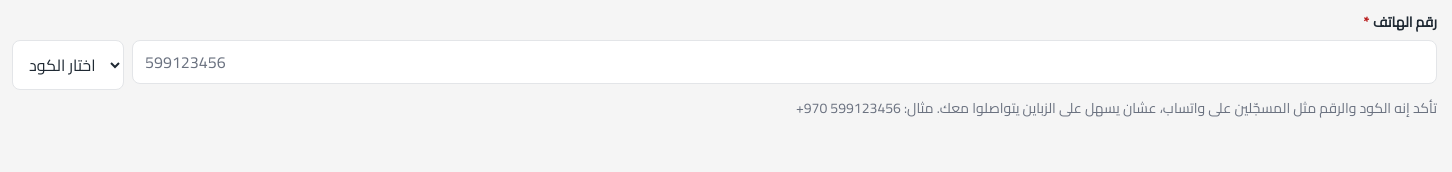
Test: PhoneField › moves a pasted country code into the select
Click the field labelled "رقم الهاتف*": [784, 62] box [132,40,1437,84]
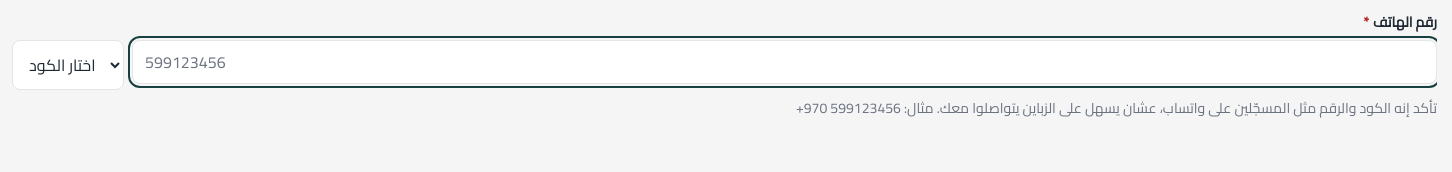
Type keys "+972 59-000-0000"
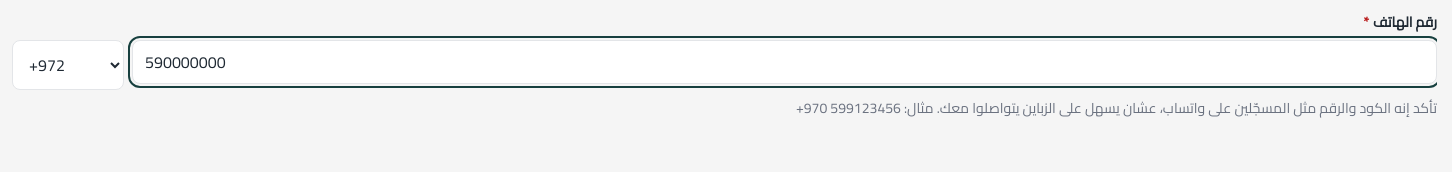
Now the field labelled "رقم الهاتف*" holds "590000000", box [132,40,1437,84]
Now the dropdown named "كود الدولة" shows "+972", box [12,40,124,90]
